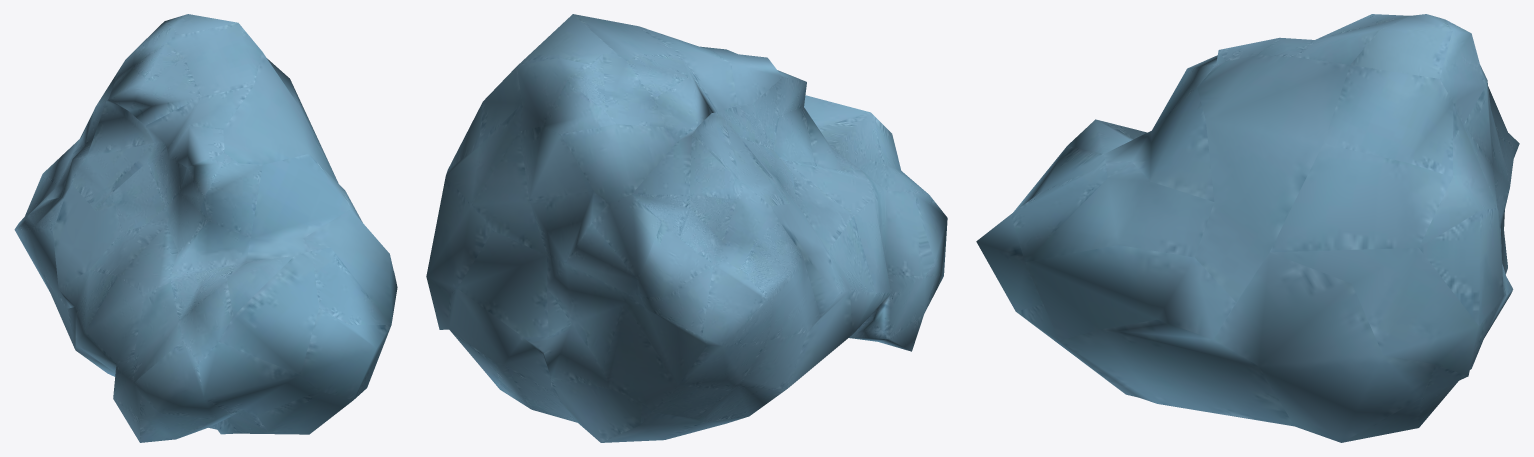
Rendered from l_rock_ice1.glb.
3 views of the same model, side by side, from view 1: azimuth 30°, elevation 25°; view 2: azimuth 150°, elevation 25°; view 3: azimuth 270°, elevation 25° (orthographic). The views are drawn at different scales.
Bounding box in the file's own units: 0.7549 × 0.7613 × 0.9536.
1 material, 1 textured.
